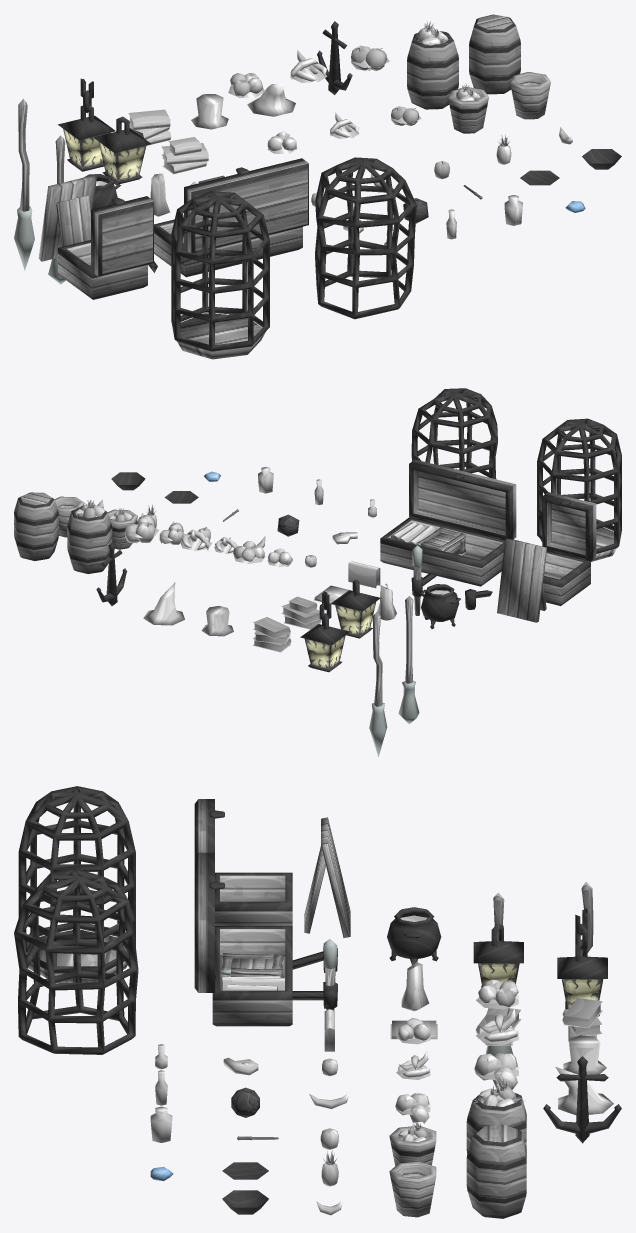
Rendered from Props.fbx.
3 views of the same model, one above another, from view 1: azimuth 30°, elevation 25°; view 2: azimuth 150°, elevation 25°; view 3: azimuth 270°, elevation 25° (orthographic). The views are drawn at different scales.
Visible parts, largest first — view 1: Cage, CageDamaged, TrunkLid2, TrunkLid1, Barrel, Sign, BarrelOpen, Trunk1, Trunk2, HangingLamp, Lamp, CageBottom (+21 smaller); view 2: TrunkLid2, Cage, CageDamaged, Trunk2, Sign, TrunkLid1, Barrel, BarrelOpen, Trunk1, HangingLamp, Lamp, Couldron (+16 smaller); view 3: CageDamaged, Cage, Trunk2, Barrel, Trunk1, TrunkLid2, HangingLamp, Sign, Couldron, Bucket, Lamp, Anchor (+22 smaller).
Boxes of the visible parts, box(x1,y1,x2,y2) form: Cage: box(171, 191, 269, 351); CageDamaged: box(315, 157, 416, 319); TrunkLid2: box(184, 158, 308, 253); TrunkLid1: box(91, 196, 153, 276); Barrel: box(469, 14, 520, 94); Sign: box(38, 175, 96, 261); BarrelOpen: box(407, 29, 458, 109); Trunk1: box(58, 240, 147, 299); Trunk2: box(154, 219, 302, 277); HangingLamp: box(58, 78, 115, 171); Lamp: box(93, 116, 150, 183); CageBottom: box(177, 313, 265, 359); TrunkLid2: box(409, 459, 516, 540); Cage: box(537, 418, 621, 553); CageDamaged: box(411, 388, 497, 478); Trunk2: box(380, 517, 504, 586); Sign: box(497, 538, 546, 622); TrunkLid1: box(542, 492, 596, 560); Barrel: box(14, 492, 58, 560); BarrelOpen: box(67, 505, 112, 573); Trunk1: box(543, 549, 590, 605); HangingLamp: box(300, 591, 349, 672); Lamp: box(331, 579, 380, 638); Couldron: box(419, 584, 460, 628); CageDamaged: box(14, 868, 138, 1054); Cage: box(18, 786, 135, 973); Trunk2: box(212, 926, 292, 1026); Barrel: box(466, 1124, 526, 1218); Trunk1: box(215, 872, 292, 925); TrunkLid2: box(194, 852, 224, 992); HangingLamp: box(557, 908, 607, 1016); Sign: box(304, 817, 350, 937); Couldron: box(387, 907, 441, 964); Bucket: box(389, 1161, 436, 1217); Lamp: box(473, 924, 523, 987); Anchor: box(543, 1056, 621, 1143).
Bounding box in the file's own units: 8.82 × 7.22 × 3.66.
